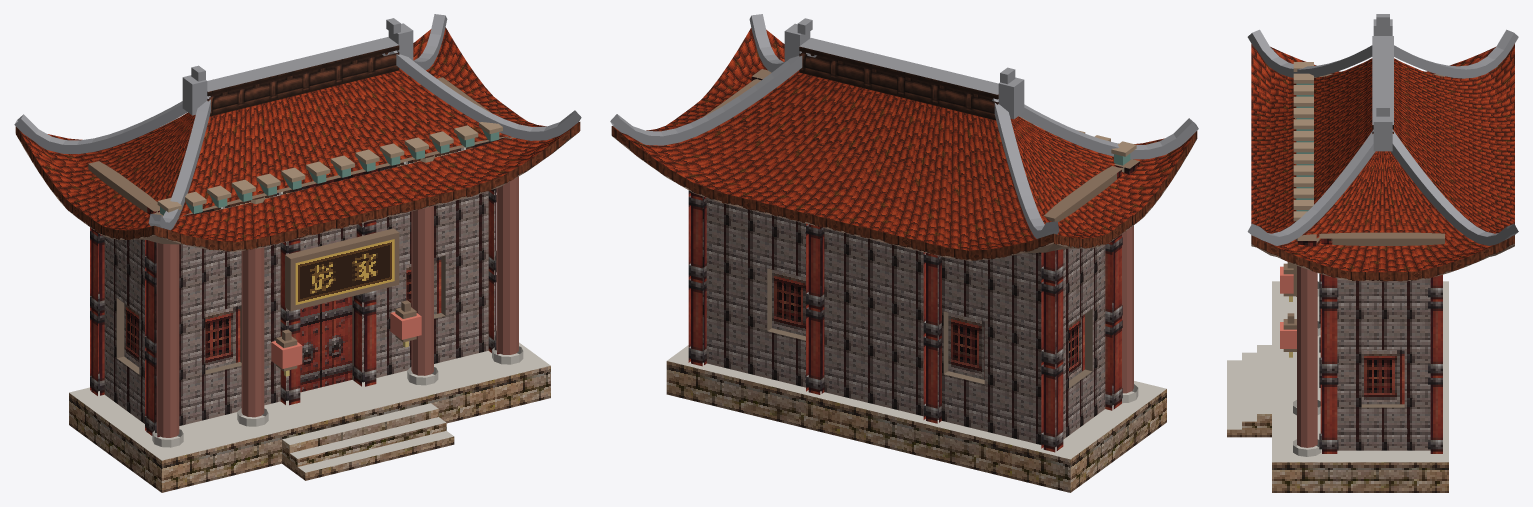
Rendered from g_paeng_clay.glb.
The picture shows the model from 3 angles, left to right: view 1: azimuth 30°, elevation 25°; view 2: azimuth 150°, elevation 25°; view 3: azimuth 270°, elevation 25°; orthographic projection. The views are drawn at different scales.
Parts seen in each view (by area): view 1: roof, plaster, stonetop, stone, col, ridgeend, post, eave, wood, ridge, door, plaque (+7 smaller); view 2: plaster, roof, stone, post, ridgeend, eave, stonetop, ridge, win, col, wood, reveal (+1 smaller); view 3: roof, plaster, ridgeend, stonetop, stone, post, col, woodl, eave, win, wood, lantern (+2 smaller).
Boxes of the visible parts, x1,y1,x2,y2 form: roof: (18,27,579,242); plaster: (104,190,495,425); stonetop: (69,326,550,472); stone: (69,366,550,492); col: (156,176,518,437); ridgeend: (14,14,581,230); post: (90,188,499,437); eave: (15,122,580,251); wood: (88,77,508,371); ridge: (207,45,399,116); door: (300,296,352,392); plaque: (295,239,394,304); plaster: (702,196,1105,444); roof: (612,28,1194,250); stone: (666,361,1166,492); post: (688,190,1122,452); ridgeend: (610,14,1198,238); eave: (611,126,1197,260); stonetop: (667,345,1166,459); ridge: (799,46,998,120); win: (772,269,1084,380); col: (1122,225,1133,393); wood: (703,69,1139,222); reveal: (767,268,1092,388); roof: (1251,44,1514,272); plaster: (1337,278,1430,450); ridgeend: (1247,14,1518,245); stonetop: (1227,281,1448,462); stone: (1227,414,1448,492); post: (1319,273,1442,453); col: (1297,265,1317,447); woodl: (1293,62,1319,242); eave: (1251,235,1514,281); win: (1361,350,1404,404); wood: (1283,74,1444,351); lantern: (1280,266,1296,348).
Size of the model in its own units: 70.11 by 55.37 by 42.97.
Materials: 20 (10 with a texture image).
